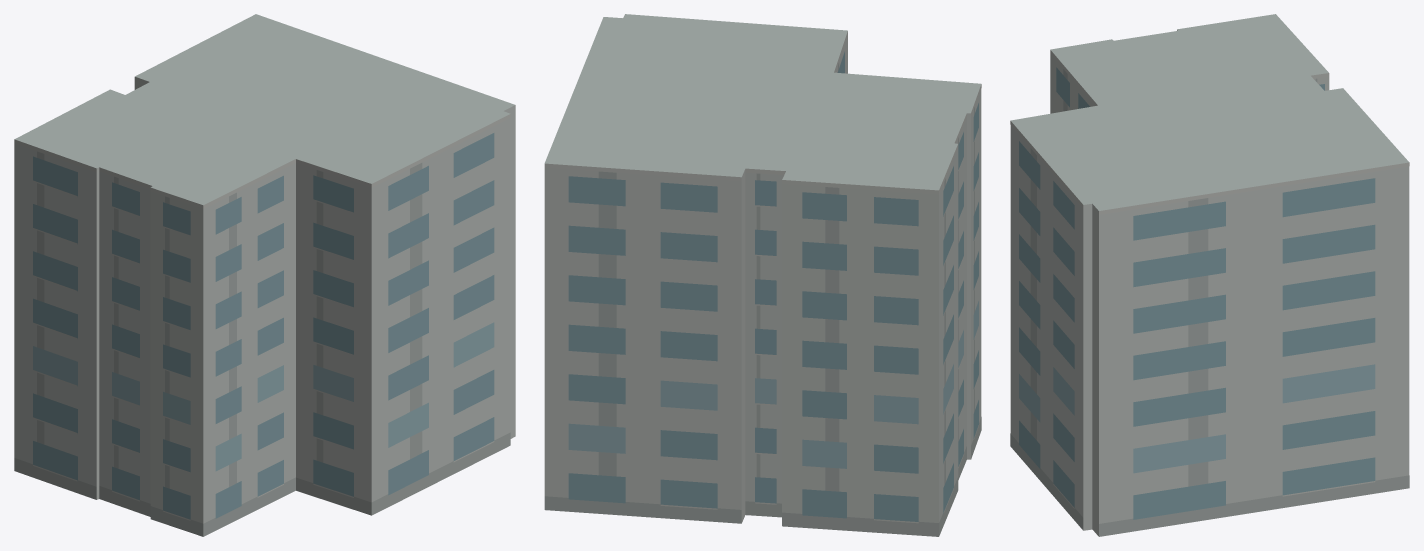
Rendered from survey-upis-32841822.glb.
The picture shows the model from 3 angles, left to right: view 1: azimuth 30°, elevation 25°; view 2: azimuth 150°, elevation 25°; view 3: azimuth 270°, elevation 25°; orthographic projection. The views are drawn at different scales.
Parts seen in each view (by area): view 1: survey-upis-32841822.tmp; view 2: survey-upis-32841822.tmp; view 3: survey-upis-32841822.tmp.
Part boxes in pixels (x1,y1,x2,y2): survey-upis-32841822.tmp: (14,14,515,536); survey-upis-32841822.tmp: (544,14,981,536); survey-upis-32841822.tmp: (1010,14,1409,536).
Bounding box in the file's own units: 26.08 × 20.1 × 22.32.
